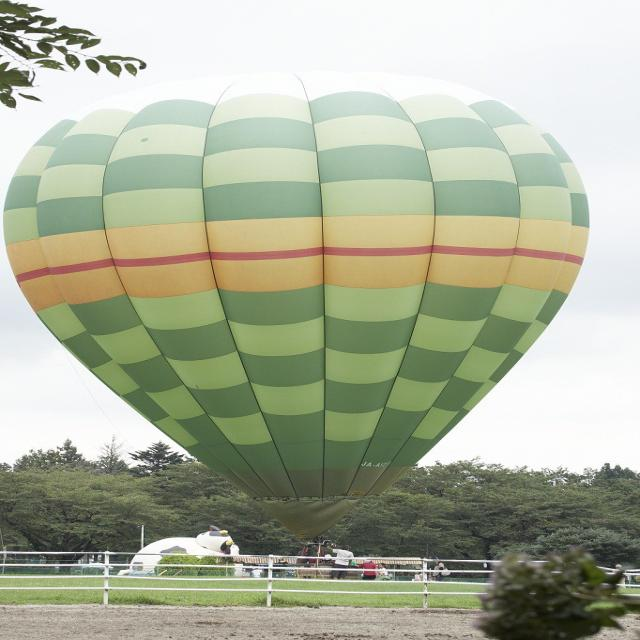balloon: (4, 70, 592, 540)
